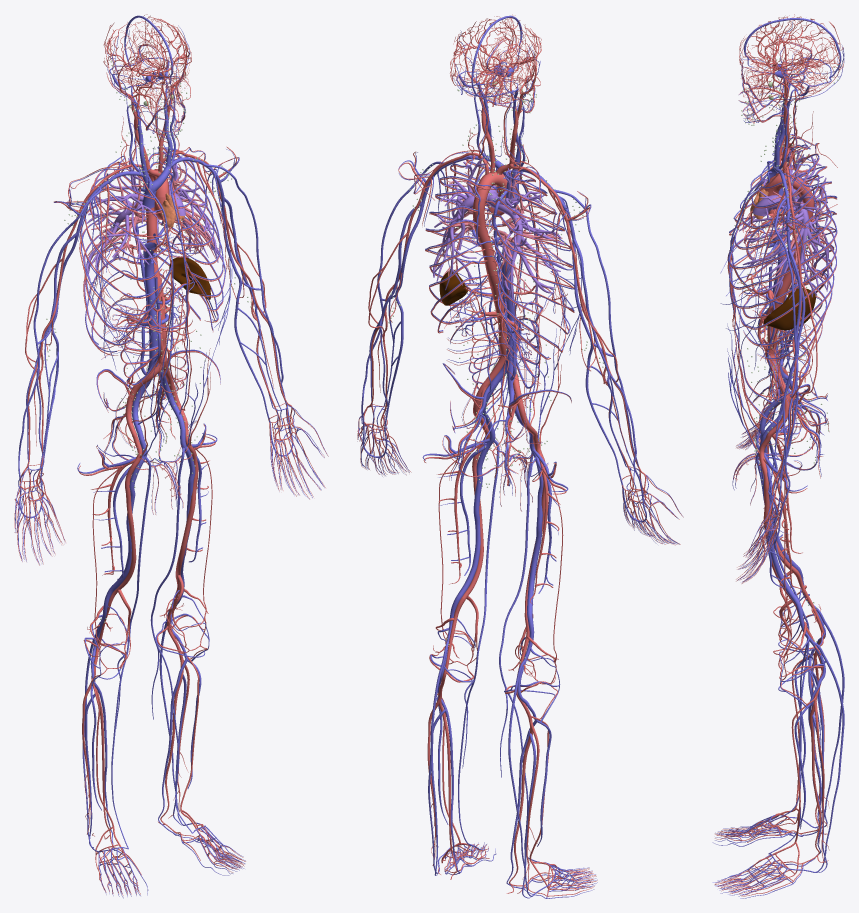
The model's file is vessels.glb.
3 renders of one model, left to right at view 1: azimuth 30°, elevation 25°; view 2: azimuth 150°, elevation 25°; view 3: azimuth 270°, elevation 25°, orthographic. The views are drawn at different scales.
Visible parts, largest first — view 1: Right superior intercostal vein, Posterior intercostal arteries R, Left superior intercostal vein, Great saphenous vein L, Great saphenous vein R, Spleen, Posterior intercostal arteries L, Femoral artery R, Cephalic vein R, Femoral artery L, Cephalic vein L, Femoral vein R (+1 smaller); view 2: Posterior intercostal arteries R, Right superior intercostal vein, Left superior intercostal vein, Posterior intercostal arteries L, Great saphenous vein L, Great saphenous vein R, Femoral vein L, Femoral vein R, Cephalic vein R, Thoracic aorta, Basilic vein L, Basilic vein R (+4 smaller); view 3: Left superior intercostal vein, Posterior intercostal arteries L, Spleen, Cephalic vein L, Right superior intercostal vein, Small saphenous vein L, Femoral artery L, Great saphenous vein R, Small saphenous vein R, Great saphenous vein L, Posterior intercostal arteries R, Abdominal aorta (+22 smaller).
Boxes of the visible parts, x1,y1,x2,y2 form: Right superior intercostal vein: [81, 155, 172, 352]; Posterior intercostal arteries R: [79, 163, 169, 355]; Left superior intercostal vein: [144, 147, 225, 330]; Great saphenous vein L: [150, 447, 192, 833]; Great saphenous vein R: [111, 456, 151, 848]; Spleen: [169, 257, 210, 299]; Posterior intercostal arteries L: [146, 153, 225, 331]; Femoral artery R: [115, 432, 142, 591]; Cephalic vein R: [18, 187, 101, 489]; Femoral artery L: [175, 419, 198, 576]; Cephalic vein L: [202, 162, 290, 423]; Femoral vein R: [111, 439, 147, 589]; Posterior intercostal arteries R: [478, 188, 574, 359]; Right superior intercostal vein: [493, 170, 574, 358]; Left superior intercostal vein: [425, 156, 513, 331]; Posterior intercostal arteries L: [425, 177, 506, 333]; Great saphenous vein L: [458, 440, 499, 846]; Great saphenous vein R: [499, 452, 539, 861]; Femoral vein L: [458, 426, 495, 595]; Femoral vein R: [527, 436, 543, 611]; Cephalic vein R: [554, 189, 643, 497]; Thoracic aorta: [472, 197, 497, 275]; Basilic vein L: [384, 202, 424, 427]; Basilic vein R: [572, 239, 622, 484]; Left superior intercostal vein: [729, 164, 837, 358]; Posterior intercostal arteries L: [729, 175, 837, 360]; Spleen: [763, 288, 815, 330]; Cephalic vein L: [774, 197, 797, 520]; Right superior intercostal vein: [729, 144, 837, 305]; Small saphenous vein L: [804, 641, 844, 872]; Femoral artery L: [759, 432, 794, 602]; Great saphenous vein R: [755, 433, 821, 822]; Small saphenous vein R: [803, 605, 844, 828]; Great saphenous vein L: [755, 453, 821, 853]; Posterior intercostal arteries R: [729, 153, 836, 308]; Abdominal aorta: [765, 266, 794, 355].
Bounding box in the file's own units: 0.6639 × 1.7 × 0.2404.
